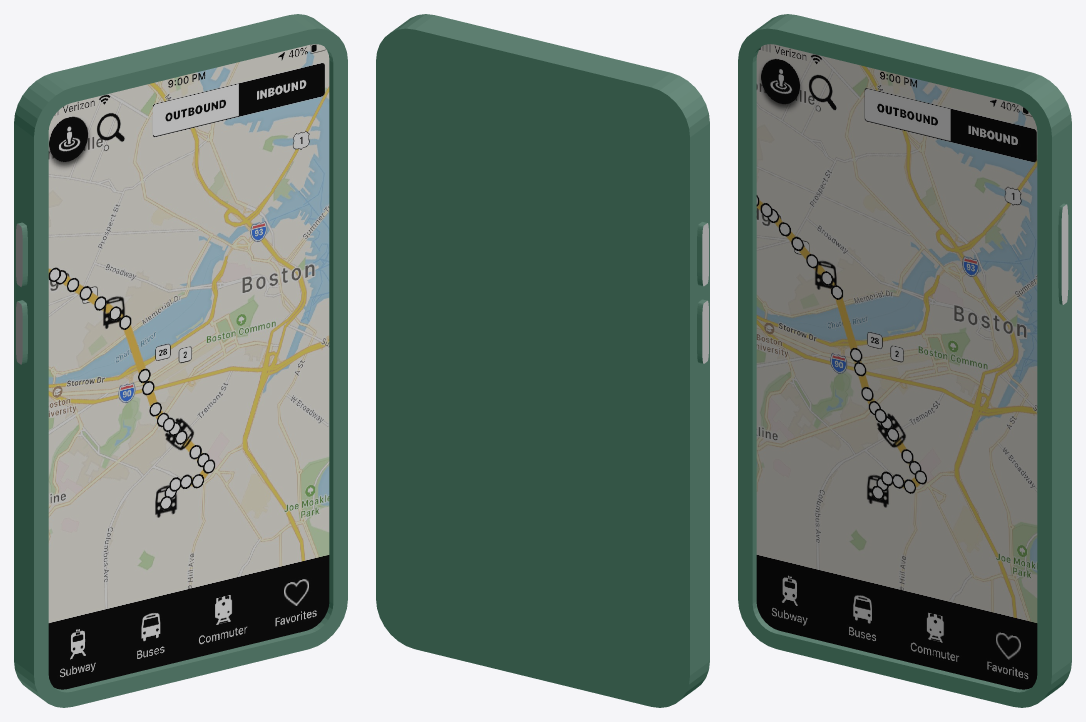
File: tt-iphone2.glb
3 renders of one model, left to right at view 1: azimuth 30°, elevation 25°; view 2: azimuth 150°, elevation 25°; view 3: azimuth 330°, elevation 25°, orthographic.
Visible parts, largest first — view 1: Plane, Plane.002, Plane.003; view 2: Plane, Plane.002, Plane.003; view 3: Plane, Plane.001.
Part boxes in pixels (left/top/right/bottom): Plane: left=14, top=14, right=347, bottom=707; Plane.002: left=16, top=222, right=27, bottom=286; Plane.003: left=16, top=300, right=27, bottom=364; Plane: left=376, top=14, right=709, bottom=707; Plane.002: left=697, top=222, right=708, bottom=286; Plane.003: left=697, top=299, right=708, bottom=363; Plane: left=738, top=14, right=1071, bottom=707; Plane.001: left=1058, top=203, right=1068, bottom=304.
Size of the model in its own units: 2.91 by 5.34 by 0.3115.
Materials: 5 (1 with a texture image).
